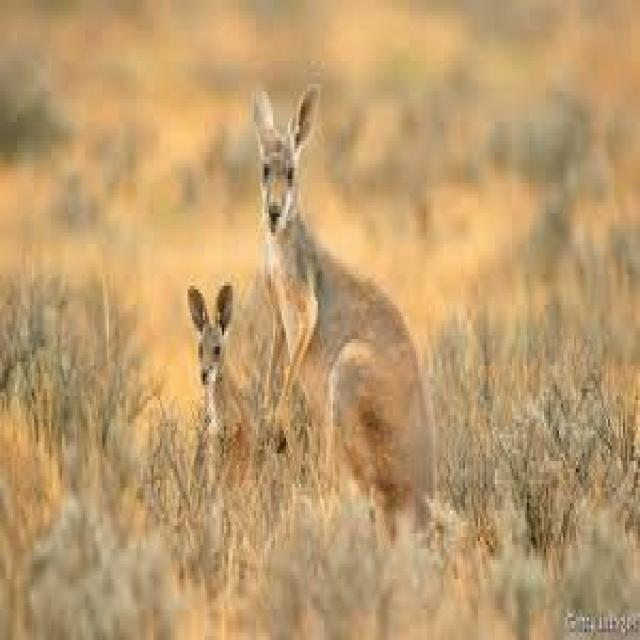kangaroo: (254, 88, 433, 507), (188, 282, 235, 430)
